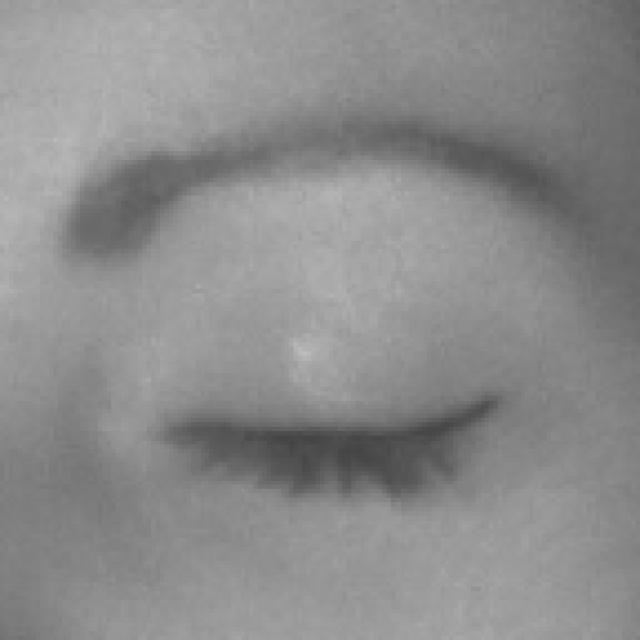close: (31, 84, 640, 638)
